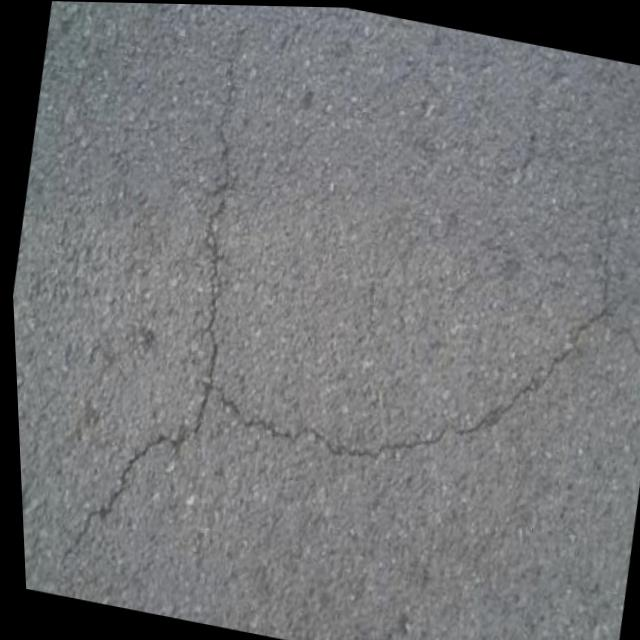Crack: (32, 1, 290, 596), (190, 219, 618, 512)
